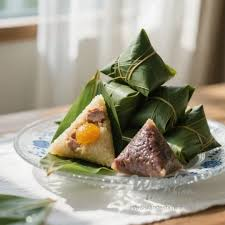zongzi: (101, 29, 175, 96), (50, 95, 114, 165), (112, 119, 181, 176), (164, 105, 220, 163), (131, 85, 193, 133), (104, 79, 143, 129)
